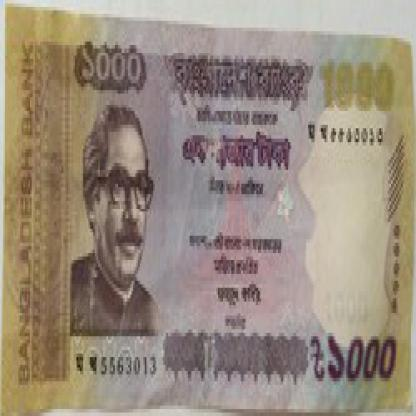One Thousand taka: (308, 333, 399, 392), (316, 59, 400, 121), (75, 42, 146, 94)
